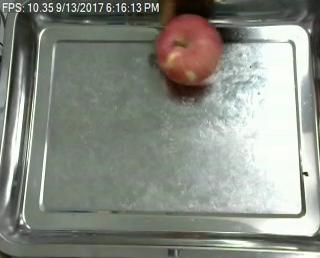apple: (155, 15, 223, 87)
